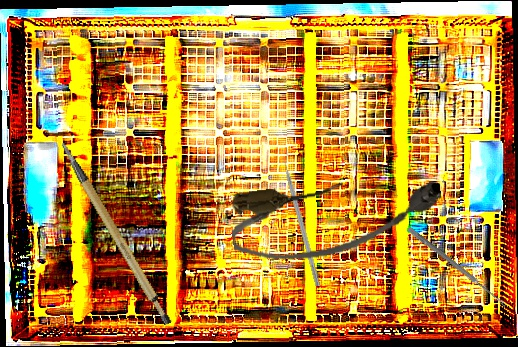Cannula: (227, 168, 447, 268)
Chopper: (279, 149, 328, 287)
Scalpel Handle: (59, 128, 176, 337)
Surgical Spoon: (406, 226, 508, 308)
